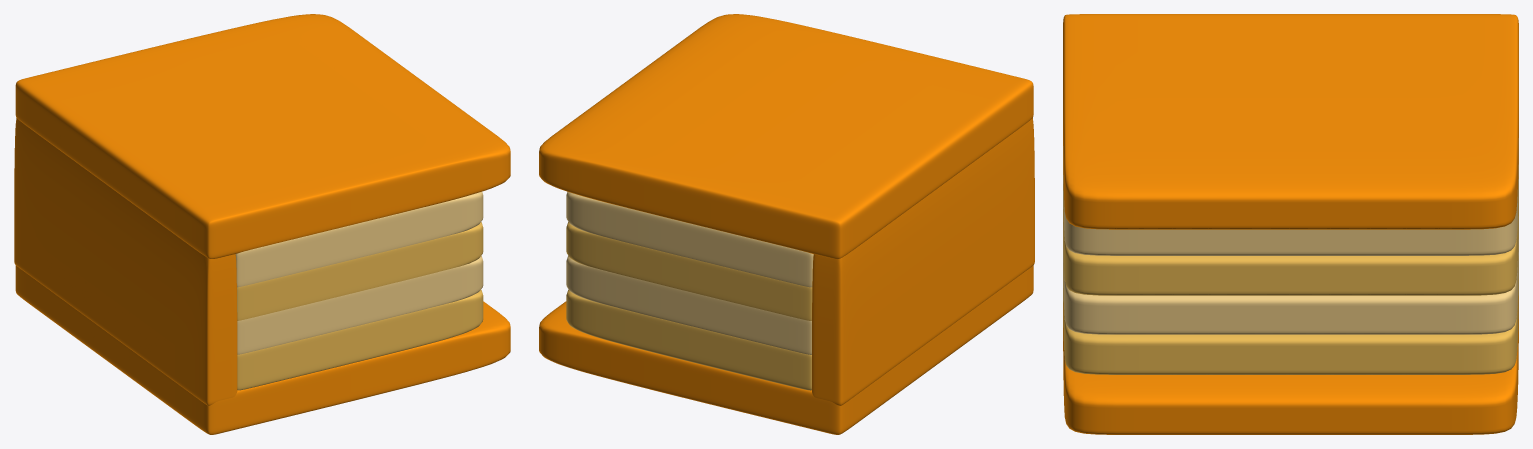
File: папка5.fbx
3 renders of one model, left to right at view 1: azimuth 30°, elevation 25°; view 2: azimuth 150°, elevation 25°; view 3: azimuth 270°, elevation 25°, orthographic. The views are drawn at different scales.
Parts seen in each view (by area): view 1: Cube_2; view 2: Cube_2; view 3: Cube_2.
Part boxes in pixels (bbox=[...]): Cube_2: bbox=[14, 14, 510, 434]; Cube_2: bbox=[539, 14, 1034, 434]; Cube_2: bbox=[1063, 14, 1518, 434].
Bounding box in the file's own units: 141 × 92.42 × 151.
